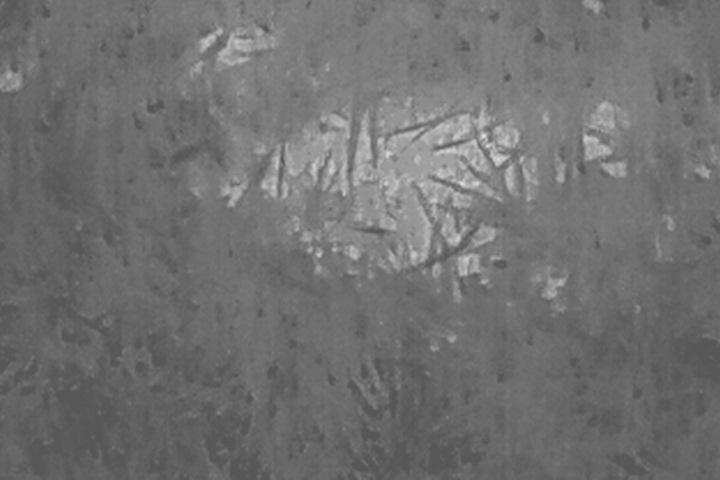landmine: (453, 232, 575, 304)
